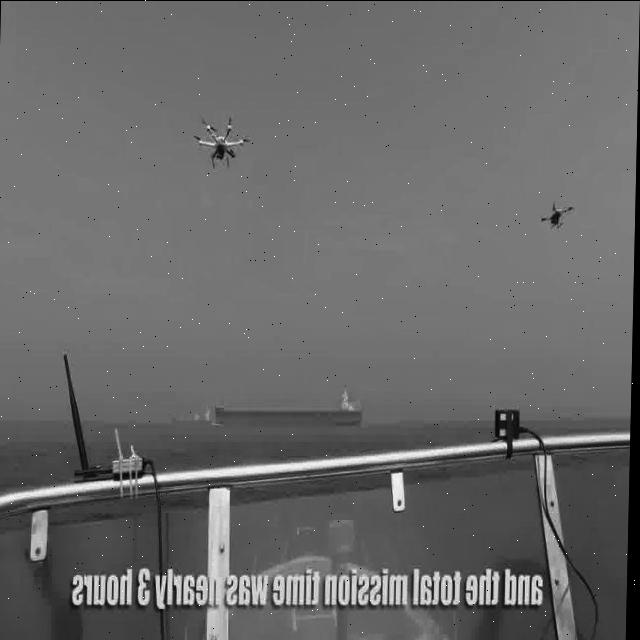drone: (539, 194, 577, 230)
